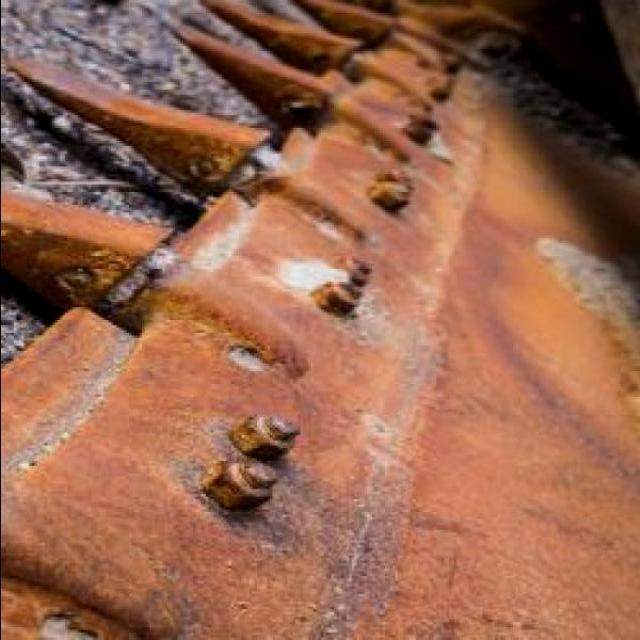corrosion: (287, 0, 640, 631), (0, 165, 247, 635), (212, 2, 639, 188)
